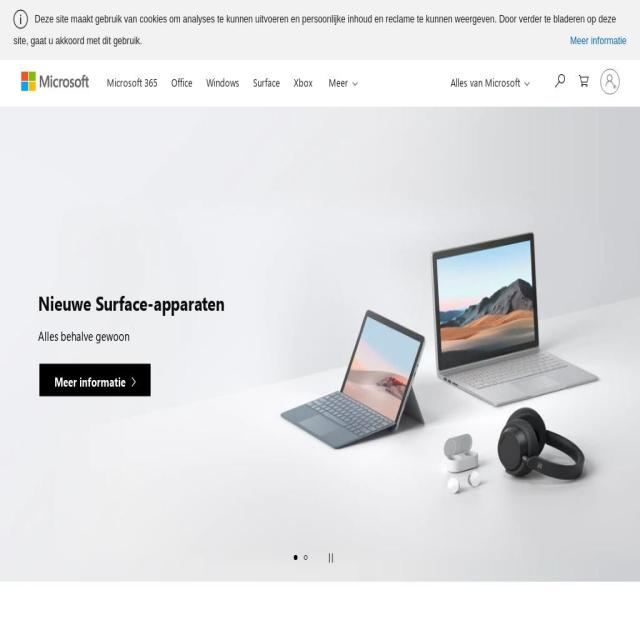button: (441, 60, 533, 103), (40, 363, 152, 397), (101, 60, 163, 101), (320, 60, 368, 103), (201, 60, 245, 101), (248, 60, 286, 101), (166, 60, 198, 101), (570, 29, 627, 52), (288, 60, 318, 101), (548, 62, 571, 98), (90, 634, 205, 640), (205, 634, 320, 640), (320, 634, 435, 640), (435, 634, 550, 640), (579, 59, 589, 99)
heading: (38, 290, 225, 314)
image: (0, 101, 636, 581), (13, 8, 29, 30)
text: (0, 540, 640, 575), (13, 12, 616, 46), (38, 327, 225, 344), (55, 373, 126, 389), (451, 74, 520, 89)
